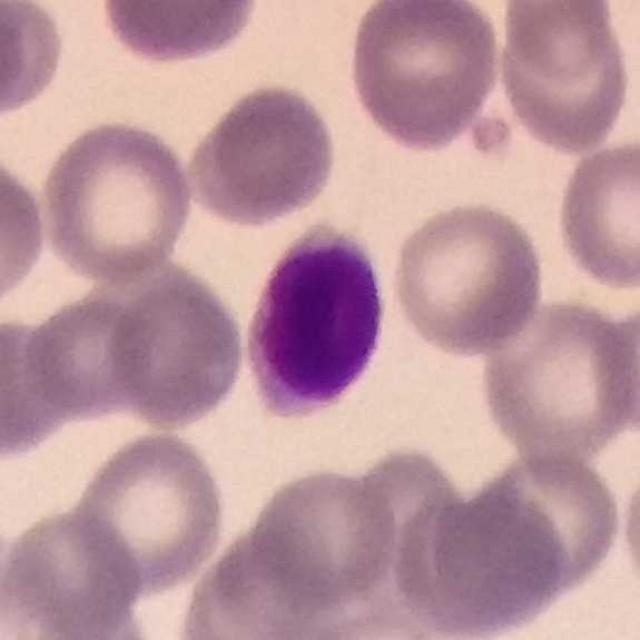Lymphocyte: (237, 215, 397, 428)
RBC: (395, 478, 573, 640), (475, 294, 640, 462), (68, 427, 230, 598), (36, 115, 197, 285), (386, 196, 550, 359), (457, 448, 626, 606), (343, 0, 505, 156), (102, 265, 250, 432), (181, 79, 343, 229), (245, 460, 402, 614), (493, 0, 636, 156), (0, 503, 147, 639), (175, 524, 344, 640), (19, 288, 158, 421), (552, 135, 640, 295), (0, 312, 85, 466), (95, 0, 265, 70), (0, 0, 70, 125), (0, 148, 51, 319), (286, 599, 481, 640), (593, 293, 640, 447), (4, 595, 162, 640), (0, 523, 59, 640), (615, 454, 640, 610), (0, 0, 27, 127)
